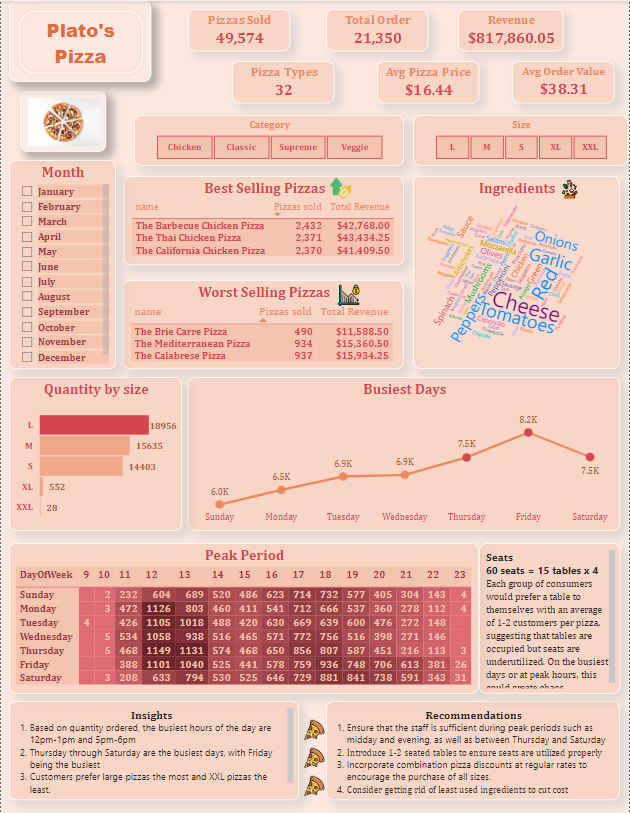

What the dashboard file says about the page in this screenshot:
{"tool":"powerbi","page":{"name":"Page 1","canvas":[816,1056],"ordinal":0},"visuals":[{"type":"image","box":[24.7,117,111.8,79.3],"z":0},{"type":"shape","box":[10.4,0,184.7,105.3],"z":1000},{"type":"card","title":"Pizzas Sold","fields":{"Values":["order_details.Pizzas sold"]},"box":[243.2,10.4,132.7,55],"z":2000},{"type":"card","title":"Total Order","fields":{"Values":["order_details.Total Orders"]},"box":[422.7,10.4,132.7,54.6],"z":3000},{"type":"card","title":"Revenue","fields":{"Values":["order_details.Total Revenue"]},"box":[594.3,10.4,136.6,54.6],"z":4000},{"type":"card","title":"Pizza Types","fields":{"Values":["order_details.Pizza Types"]},"box":[300.4,78,132.7,54.6],"z":5000},{"type":"card","title":"Avg Pizza Price","fields":{"Values":["order_details.Avg Pizza Price"]},"box":[489,78,132.7,54.6],"z":6000},{"type":"card","title":"Avg Order Value","fields":{"Values":["order_details.Avg Order Value"]},"box":[664.6,78,132.7,54.6],"z":7000},{"type":"slicer","title":"Category","fields":{"Values":["pizza_types.category"]},"box":[173.3,147.8,351.1,65.6],"z":8000},{"type":"slicer","title":"Size","fields":{"Values":["pizzas.size"]},"box":[535.6,147.8,280,65.6],"z":9000},{"type":"tableEx","title":"Best Selling Pizzas","fields":{"Values":["pizza_types.name","order_details.Pizzas sold","order_details.Total Revenue"]},"box":[160,227.6,364.1,115.7],"z":10000},{"type":"tableEx","title":"Worst Selling Pizzas","fields":{"Values":["pizza_types.name","order_details.Pizzas sold","order_details.Total Revenue"]},"box":[158.7,362.8,365.4,115.7],"z":11000},{"type":"lineChart","title":"Busiest Days","fields":{"Category":["orders.DayOfWeek"],"Y":["Sum(order_details.quantity)"]},"box":[243.2,489,561.8,200.3],"z":12000},{"type":"WordCloud1447959067750","title":"Ingredients","fields":{"Category":["pizza_types.ingredients"]},"box":[535.8,227.6,269.2,251],"z":13000},{"type":"clusteredBarChart","title":"Quantity by size","fields":{"Category":["order_details.size"],"Y":["Sum(order_details.quantity)"]},"box":[10.4,489,225,200.3],"z":14000},{"type":"image","box":[374.8,929.9,66.3,36.4],"z":15000},{"type":"pivotTable","title":"Peak Period","fields":{"Rows":["orders.DayOfWeek"],"Columns":["orders.Hour"],"Values":["Sum(order_details.quantity)"]},"box":[10.4,704.9,611.2,196.4],"z":16000},{"type":"slicer","title":"Month","fields":{"Values":["orders.Month name"]},"box":[10.4,206.8,139.2,271.8],"z":17000},{"type":"image","box":[374.5,966.3,66.3,36.4],"z":18000},{"type":"image","box":[374.8,1002.7,66.3,36.4],"z":19000},{"type":"textbox","box":[10.4,910.3,377.1,128.7],"z":20000},{"type":"textbox","title":"Recommendations","box":[422.7,910.3,382.3,128.7],"z":21000},{"type":"image","box":[721.8,227.6,35.1,33.8],"z":22000},{"type":"image","box":[422.7,223.7,37.7,40.3],"z":23000},{"type":"image","box":[433.1,362.8,37.7,39],"z":24000},{"type":"textbox","box":[621,705,184,196],"z":25000}]}

Visuals, with their boxes in screenshot pixels (x1, y1, x2, y2), scaled from the page's 816x1056 canvas onto the 630x813 screenshot:
image: <box>19,90,105,151</box>
shape: <box>8,0,151,81</box>
"Pizzas Sold" card: <box>188,8,290,50</box>
"Total Order" card: <box>326,8,429,50</box>
"Revenue" card: <box>459,8,564,50</box>
"Pizza Types" card: <box>232,60,334,102</box>
"Avg Pizza Price" card: <box>378,60,480,102</box>
"Avg Order Value" card: <box>513,60,616,102</box>
"Category" slicer: <box>134,114,405,164</box>
"Size" slicer: <box>414,114,629,164</box>
"Best Selling Pizzas" tableEx: <box>124,175,405,264</box>
"Worst Selling Pizzas" tableEx: <box>123,279,405,368</box>
"Busiest Days" lineChart: <box>188,376,622,531</box>
"Ingredients" WordCloud1447959067750: <box>414,175,622,368</box>
"Quantity by size" clusteredBarChart: <box>8,376,182,531</box>
image: <box>289,716,341,744</box>
"Peak Period" pivotTable: <box>8,543,480,694</box>
"Month" slicer: <box>8,159,116,368</box>
image: <box>289,744,340,772</box>
image: <box>289,772,341,800</box>
textbox: <box>8,701,299,800</box>
"Recommendations" textbox: <box>326,701,622,800</box>
image: <box>557,175,584,201</box>
image: <box>326,172,355,203</box>
image: <box>334,279,363,309</box>
textbox: <box>479,543,622,694</box>
